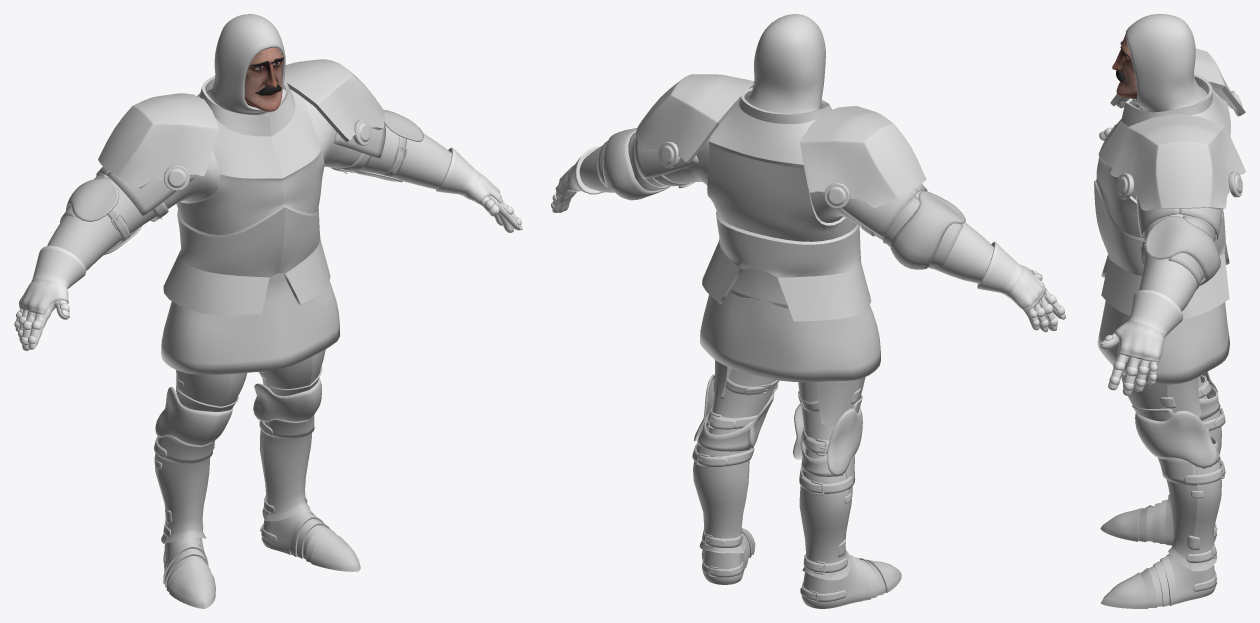
Rendered from Face_Knight_Test.fbx.
The picture shows the model from 3 angles, left to right: view 1: azimuth 30°, elevation 25°; view 2: azimuth 150°, elevation 25°; view 3: azimuth 270°, elevation 25°; orthographic projection.
Parts seen in each view (by area): view 1: Cube.003, chainmail_low, Cube.004, leg armor_low.002, leg armor_low, hand_armor_low, leg armor_low.001, Cube.002, arm armor_low, leg armor_low.003, arm armor_low.001, Face_Knight_low (+1 smaller); view 2: Cube.003, chainmail_low, Cube.004, leg armor_low.002, leg armor_low, arm armor_low.001, Cube.002, hand_armor_low, Pants, arm armor_low, leg armor_low.003, leg armor_low.001; view 3: Cube.004, Cube.003, chainmail_low, leg armor_low, Cube.002, leg armor_low.002, hand_armor_low, leg armor_low.001, arm armor_low.001, leg armor_low.003, arm armor_low, Face_Knight_low (+1 smaller).
Part boxes in pixels (bbox=[...]): Cube.003: bbox=[163, 76, 330, 315]; chainmail_low: bbox=[47, 98, 451, 374]; Cube.004: bbox=[98, 59, 384, 191]; leg armor_low.002: bbox=[154, 422, 315, 576]; leg armor_low: bbox=[153, 365, 322, 563]; hand_armor_low: bbox=[14, 147, 522, 350]; leg armor_low.001: bbox=[163, 512, 360, 608]; Cube.002: bbox=[207, 14, 285, 115]; arm armor_low: bbox=[96, 121, 407, 243]; leg armor_low.003: bbox=[176, 349, 325, 406]; arm armor_low.001: bbox=[60, 110, 423, 254]; Face_Knight_low: bbox=[244, 47, 283, 111]; Cube.003: bbox=[702, 88, 871, 321]; chainmail_low: bbox=[579, 135, 993, 382]; Cube.004: bbox=[635, 74, 926, 208]; leg armor_low.002: bbox=[693, 428, 863, 608]; leg armor_low: bbox=[692, 374, 862, 602]; arm armor_low.001: bbox=[597, 127, 965, 269]; Cube.002: bbox=[746, 14, 825, 113]; hand_armor_low: bbox=[551, 146, 1065, 332]; Pants: bbox=[709, 289, 835, 459]; arm armor_low: bbox=[634, 136, 927, 237]; leg armor_low.003: bbox=[714, 359, 865, 425]; leg armor_low.001: bbox=[701, 528, 901, 600]; Cube.004: bbox=[1110, 48, 1245, 210]; Cube.003: bbox=[1094, 74, 1230, 319]; chainmail_low: bbox=[1097, 92, 1229, 384]; leg armor_low: bbox=[1132, 371, 1225, 591]; Cube.002: bbox=[1126, 14, 1207, 112]; leg armor_low.002: bbox=[1165, 394, 1221, 603]; hand_armor_low: bbox=[1099, 124, 1183, 395]; leg armor_low.001: bbox=[1100, 499, 1177, 608]; arm armor_low.001: bbox=[1145, 215, 1220, 289]; leg armor_low.003: bbox=[1121, 374, 1201, 417]; arm armor_low: bbox=[1136, 90, 1222, 264]; Face_Knight_low: bbox=[1112, 34, 1137, 99].
Bounding box in the file's own units: 167 × 178 × 44.71.
